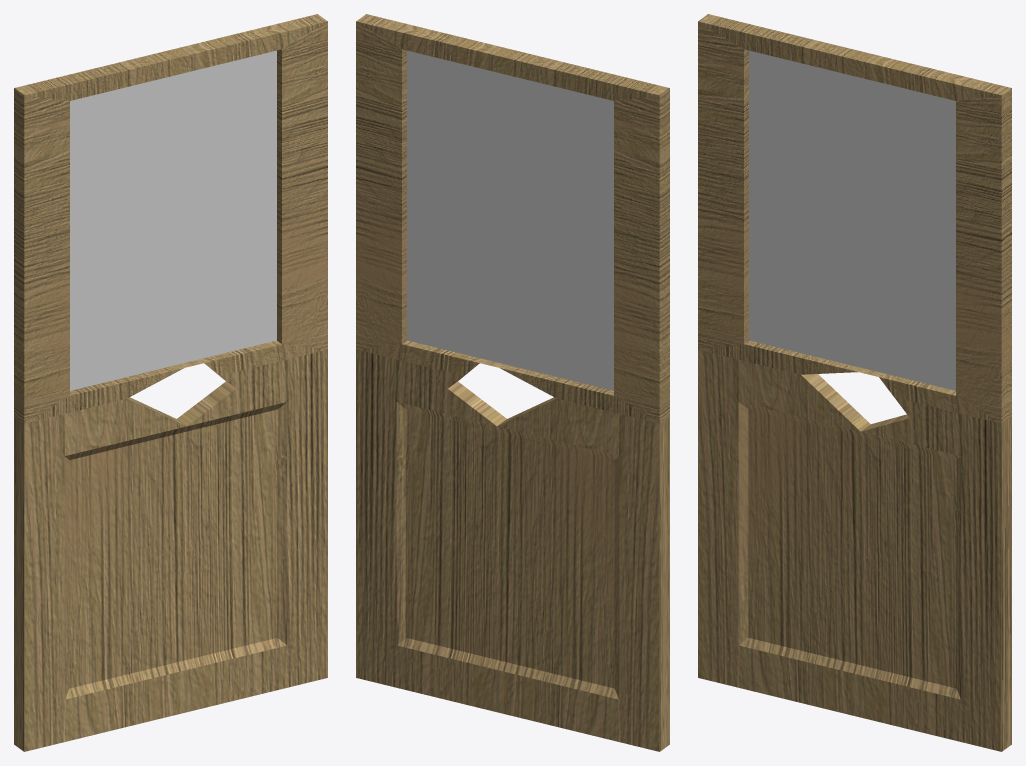
The model's file is cdoor2.fbx.
The picture shows the model from 3 angles, left to right: view 1: azimuth 30°, elevation 25°; view 2: azimuth 150°, elevation 25°; view 3: azimuth 330°, elevation 25°; orthographic projection.
Parts seen in each view (by area): view 1: Door; view 2: Door; view 3: Door.
Part boxes in pixels (box(x1,y1,x2,y2)): Door: box(14, 14, 327, 751); Door: box(356, 14, 669, 751); Door: box(698, 14, 1011, 751).
Bounding box in the file's own units: 115 × 237 × 6.64.
2 materials, 1 textured.
